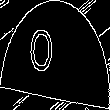O_S: (41, 27, 69, 83)
